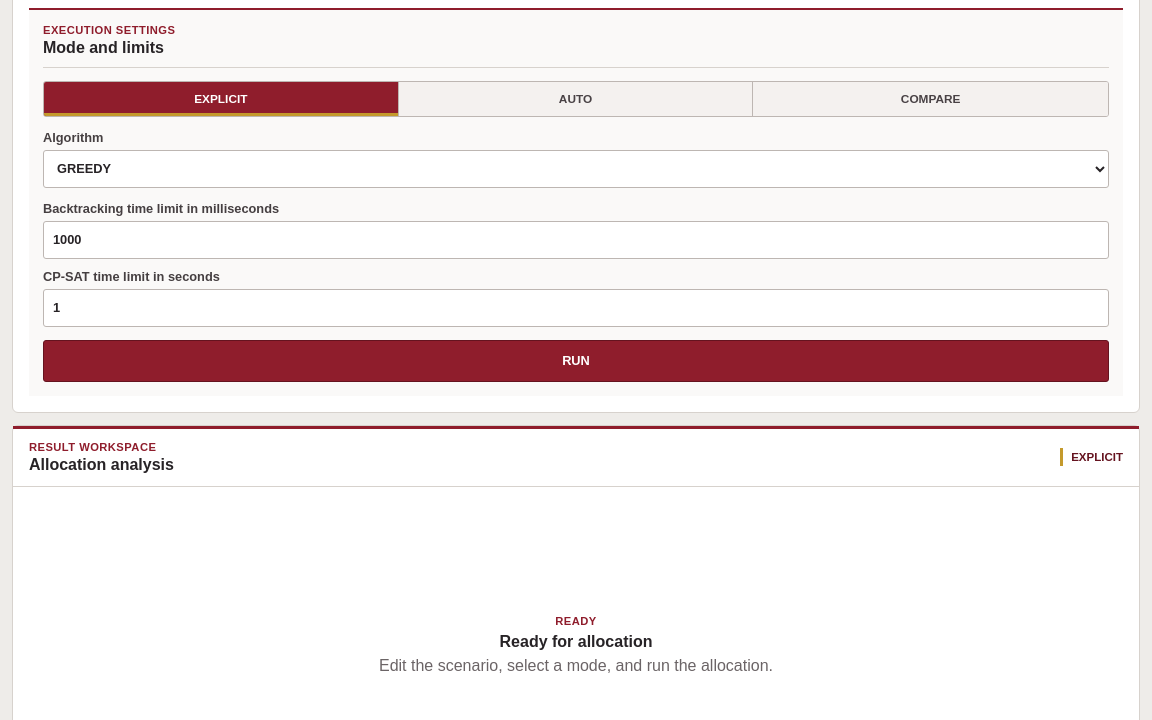
Scenario: AllocationPageComponent › should display backend ApiErrorResponse message
(page scrolled)
Click the button "RUN". click: coordinates (576, 361)
box: [43,340,1109,382]
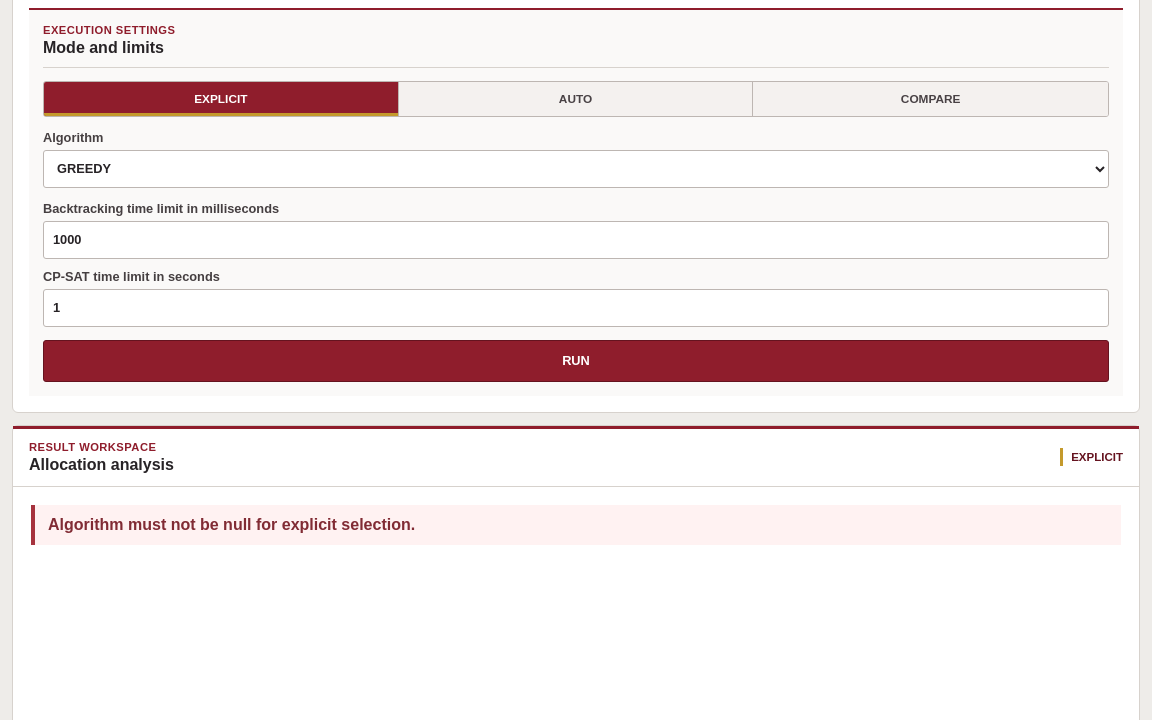
Now the text "Algorithm must not be null for explicit selection." is shown, box [31,505,1121,545]
